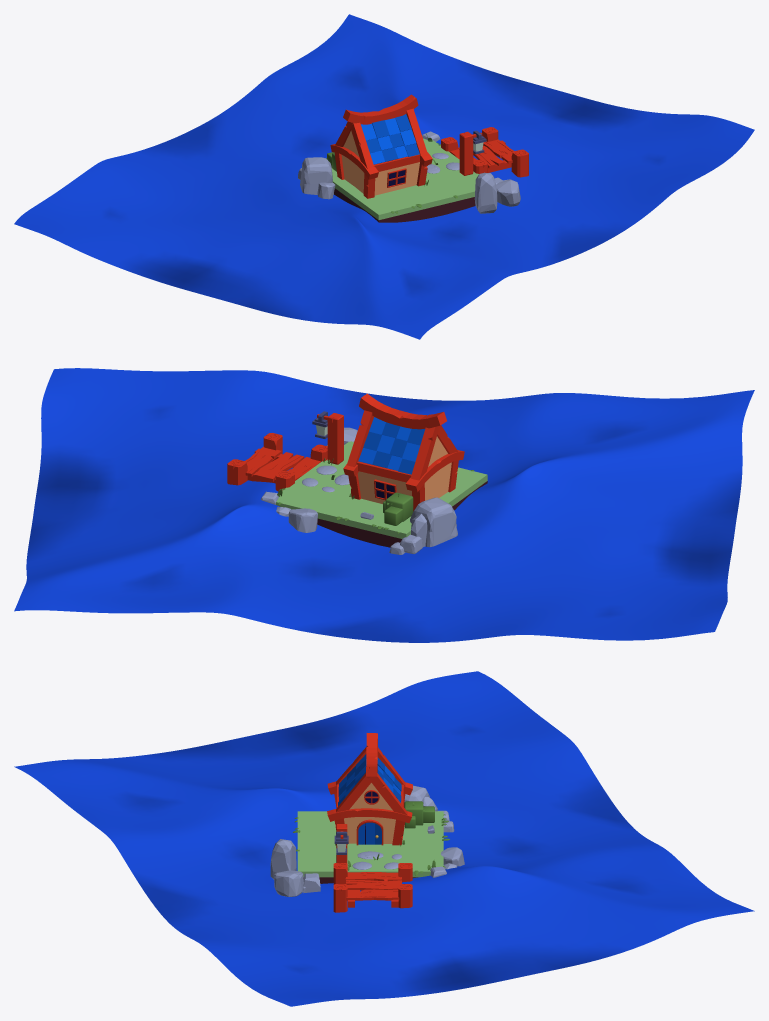
The model's file is casa.fbx.
The picture shows the model from 3 angles, top to bottom: view 1: azimuth 30°, elevation 25°; view 2: azimuth 150°, elevation 25°; view 3: azimuth 270°, elevation 25°; orthographic projection. The views are drawn at different scales.
Parts seen in each view (by area): view 1: Sea, Base, PAREDES, Cubo.056, Cubo.004, Cubo.103, Cubo.046, Cubo.102; view 2: Sea, Base, PAREDES, Cubo.056, Cubo.004, Cubo.046, Cubo.006, Cubo.041, Cubo.026, Cubo.005, Cubo.055, Cubo.038 (+3 smaller); view 3: Sea, Base, PAREDES, Cubo.103, Cubo.001, Cubo.102, puerta, Cubo.038.
Part boxes in pixels (x1,y1,x2,y2): Sea: [14, 14, 754, 339]; Base: [331, 138, 478, 222]; PAREDES: [341, 130, 419, 195]; Cubo.056: [300, 157, 333, 194]; Cubo.004: [343, 94, 418, 124]; Cubo.103: [474, 172, 497, 213]; Cubo.046: [459, 131, 473, 175]; Cubo.102: [496, 179, 520, 206]; Sea: [14, 368, 754, 642]; Base: [276, 441, 487, 547]; PAREDES: [357, 436, 451, 503]; Cubo.056: [410, 497, 457, 547]; Cubo.004: [359, 393, 446, 429]; Cubo.046: [327, 413, 343, 464]; Cubo.006: [410, 426, 439, 480]; Cubo.041: [255, 452, 304, 481]; Cubo.026: [405, 450, 464, 492]; Cubo.005: [347, 410, 373, 466]; Cubo.055: [288, 508, 317, 532]; Cubo.038: [244, 446, 281, 476]; Sea: [14, 671, 754, 1006]; Base: [297, 811, 443, 883]; PAREDES: [344, 783, 395, 843]; Cubo.103: [270, 839, 296, 879]; Cubo.001: [327, 808, 412, 823]; Cubo.102: [274, 870, 303, 896]; puerta: [356, 819, 383, 845]; Cubo.038: [346, 889, 399, 900].
Bounding box in the file's own units: 7084 × 1061 × 6610.
